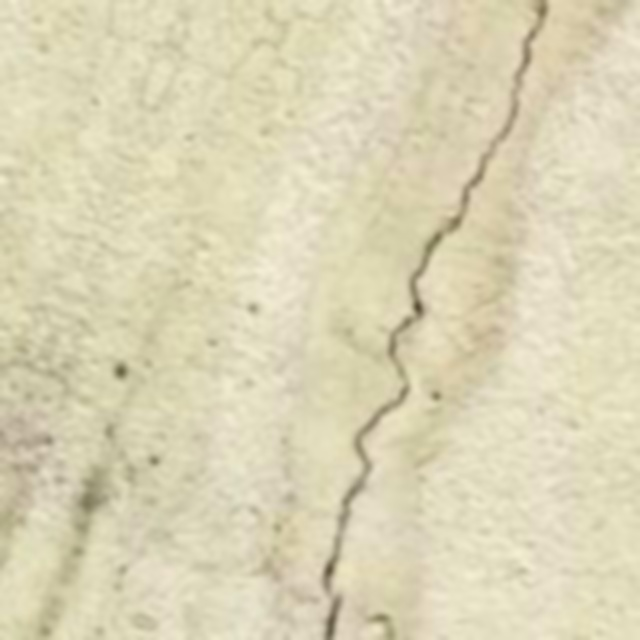SurfaceCrack: (270, 0, 550, 640)
